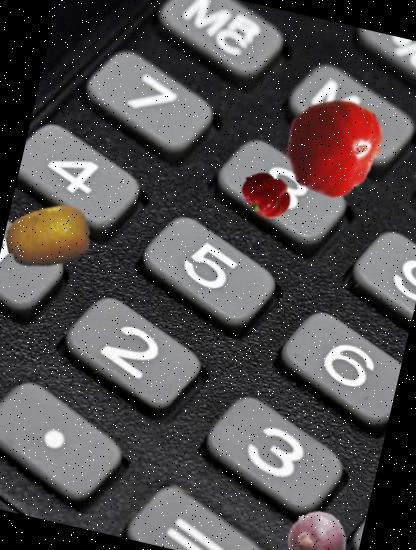Kumquats: (0, 186, 99, 288)
Onion: (279, 505, 355, 550)
Pepper: (236, 164, 298, 225)
Tomato: (272, 83, 396, 208)
